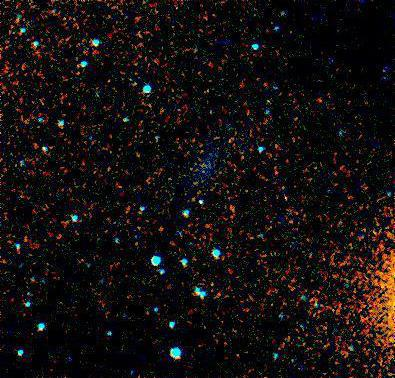star: (147, 213, 177, 243)
